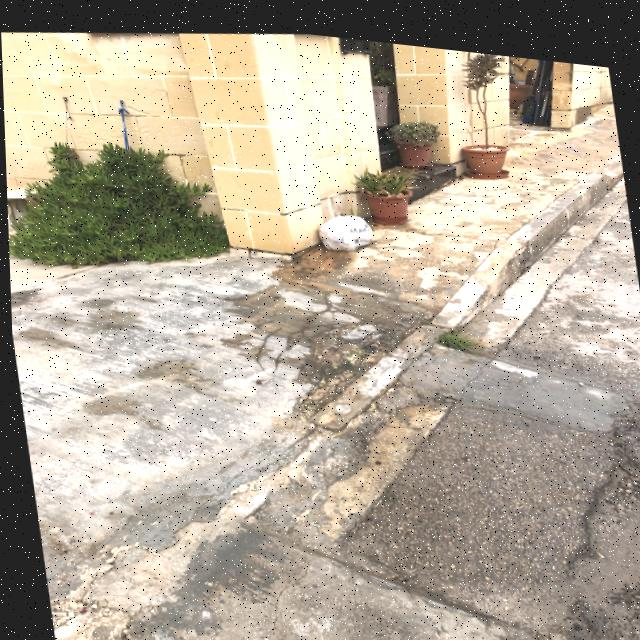Organic Waste -White Bag-: (315, 203, 374, 250)
